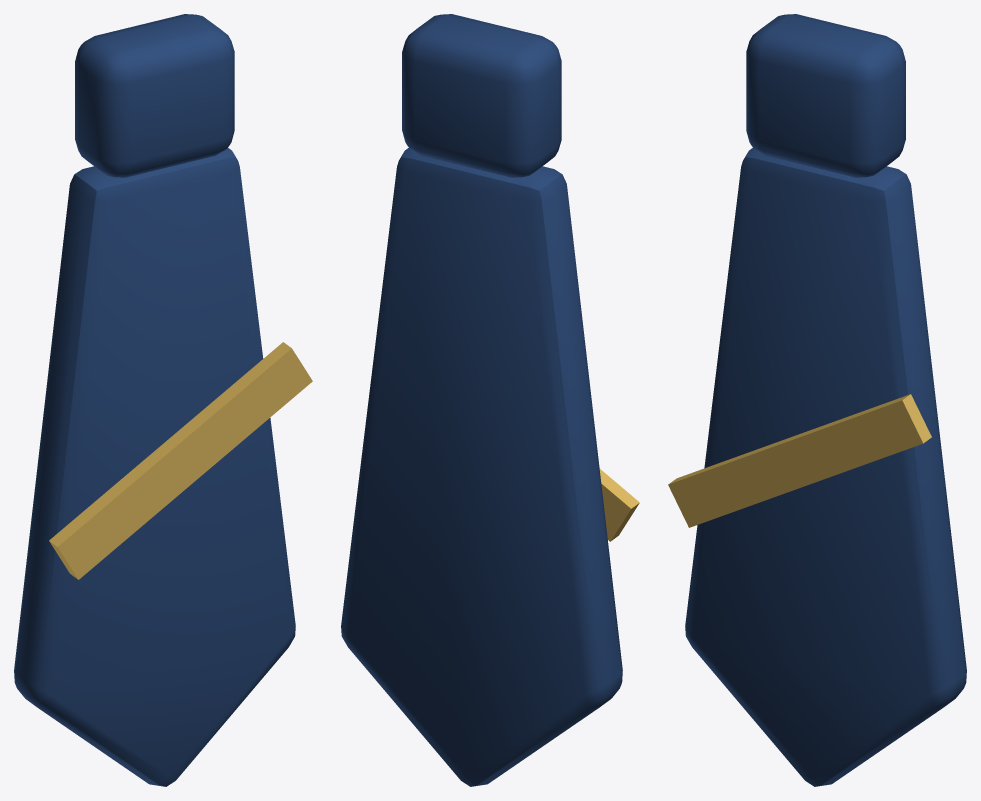
The model's file is dasi.glb.
The picture shows the model from 3 angles, left to right: view 1: azimuth 30°, elevation 25°; view 2: azimuth 150°, elevation 25°; view 3: azimuth 330°, elevation 25°; orthographic projection.
Visible parts, largest first — view 1: dasi; view 2: dasi; view 3: dasi.
Part boxes in pixels (x1=…): dasi: x1=14, y1=14, x2=312, y2=786; dasi: x1=341, y1=14, x2=639, y2=786; dasi: x1=668, y1=14, x2=966, y2=786.
Bounding box in the file's own units: 0.3727 × 1 × 0.1261.
